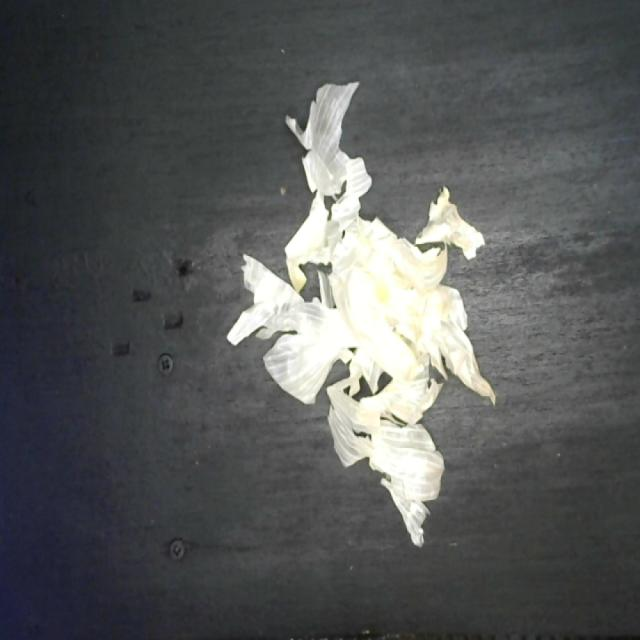biodegradable: (224, 78, 502, 554)
